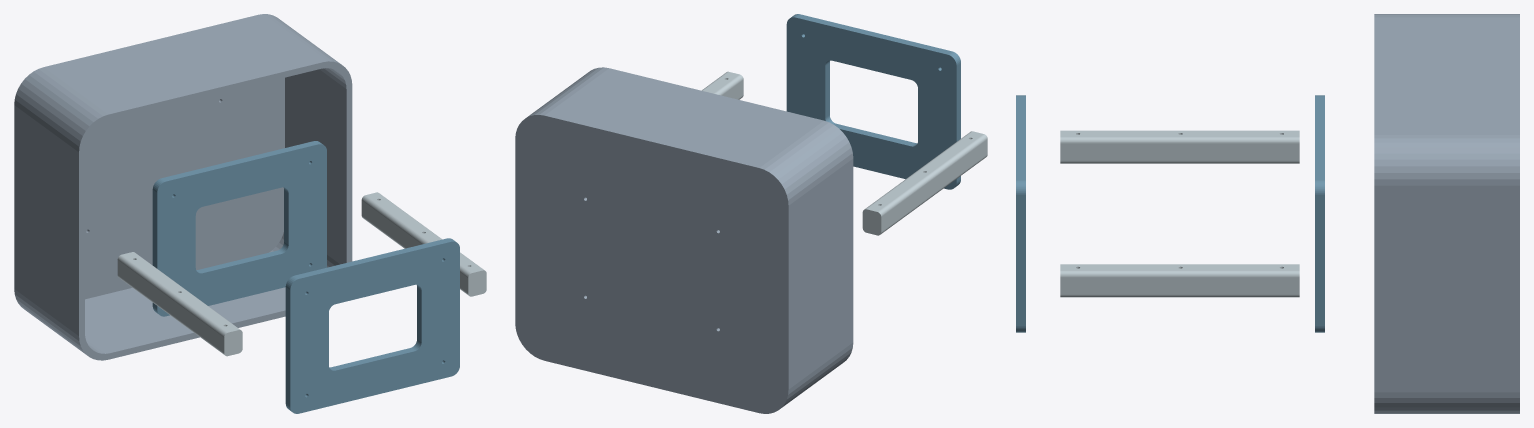
Rendered from Skeleton_Exploded.glb.
3 renders of one model, left to right at view 1: azimuth 30°, elevation 25°; view 2: azimuth 150°, elevation 25°; view 3: azimuth 270°, elevation 25°, orthographic. The views are drawn at different scales.
Visible parts, largest first — view 1: HBR-018, HBR-006, HBR-007, HBR-008, HBR-009; view 2: HBR-018, HBR-006, HBR-008, HBR-009; view 3: HBR-018, HBR-008, HBR-009, HBR-007, HBR-006.
Part boxes in pixels (x1,y1,x2,y2): HBR-018: (14, 14, 352, 360); HBR-006: (285, 238, 459, 413); HBR-007: (152, 141, 326, 316); HBR-008: (117, 252, 242, 356); HBR-009: (361, 192, 486, 296); HBR-018: (515, 67, 853, 413); HBR-006: (786, 14, 960, 189); HBR-008: (862, 131, 987, 235); HBR-009: (702, 71, 743, 99); HBR-018: (1374, 14, 1519, 413); HBR-008: (1060, 130, 1299, 163); HBR-009: (1060, 264, 1299, 297); HBR-007: (1315, 95, 1324, 332); HBR-006: (1016, 95, 1025, 332).
Bounding box in the file's own units: 280 × 240 × 398.
